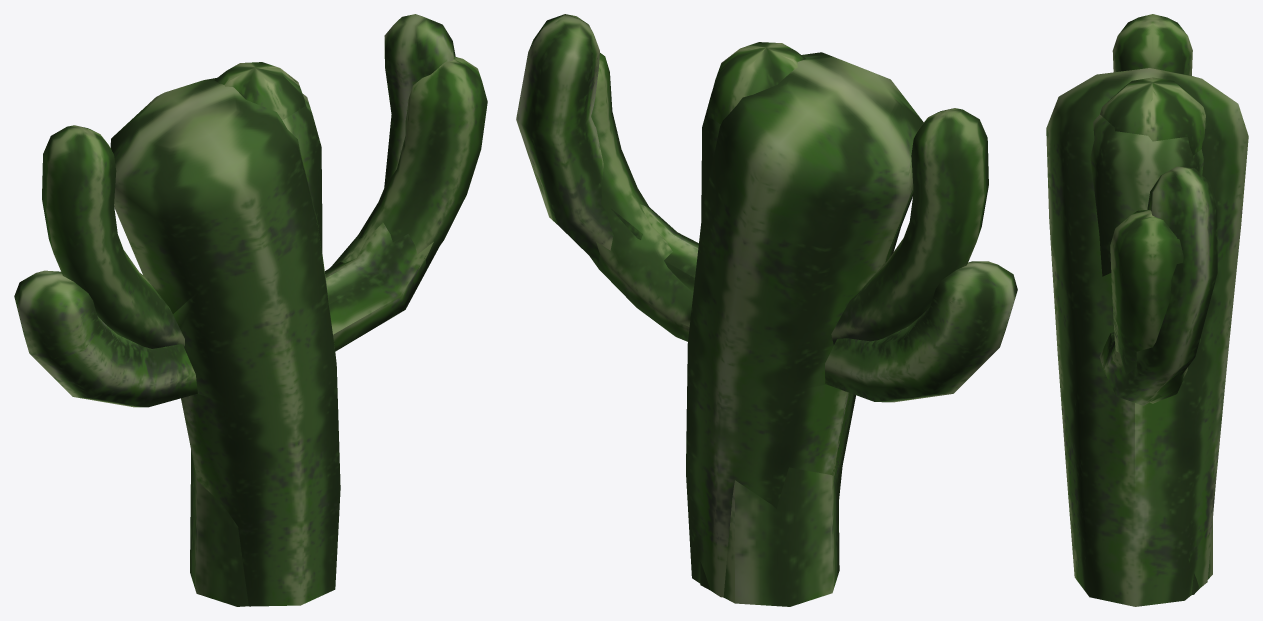
The model's file is cactus_01.fbx.
3 renders of one model, left to right at view 1: azimuth 30°, elevation 25°; view 2: azimuth 150°, elevation 25°; view 3: azimuth 270°, elevation 25°, orthographic. The views are drawn at different scales.
Visible parts, largest first — view 1: cactus_02, cactus_01, cactus_04, cactus_03; view 2: cactus_02, cactus_01, cactus_04, cactus_03; view 3: cactus_02, cactus_01, cactus_03.
Boxes of the visible parts, x1,y1,x2,y2 form: cactus_02: (14,14,455,606); cactus_01: (42,56,487,348); cactus_04: (190,450,248,606); cactus_03: (282,93,322,255); cactus_02: (516,14,1017,597); cactus_01: (590,42,988,344); cactus_04: (735,467,839,606); cactus_03: (700,91,734,603); cactus_02: (1046,68,1248,606); cactus_01: (1100,14,1205,403); cactus_03: (1090,114,1212,594).
Bounding box in the file's own units: 155 × 162 × 60.48.
